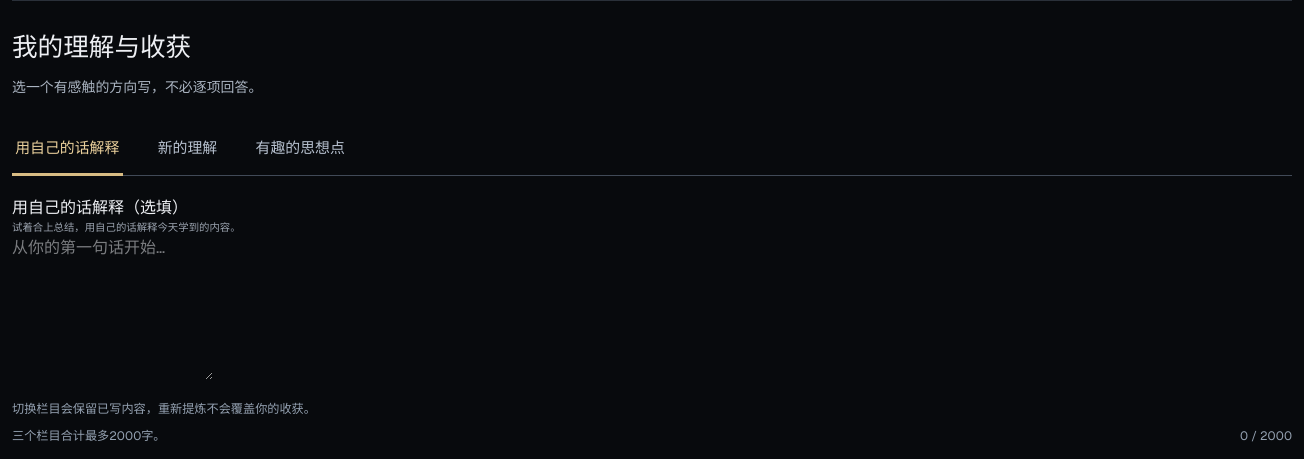
Scenario: preserves independent optional writing when switching tabs
Type "我的解释" into the text box at (112, 308), box [12,236,213,380]
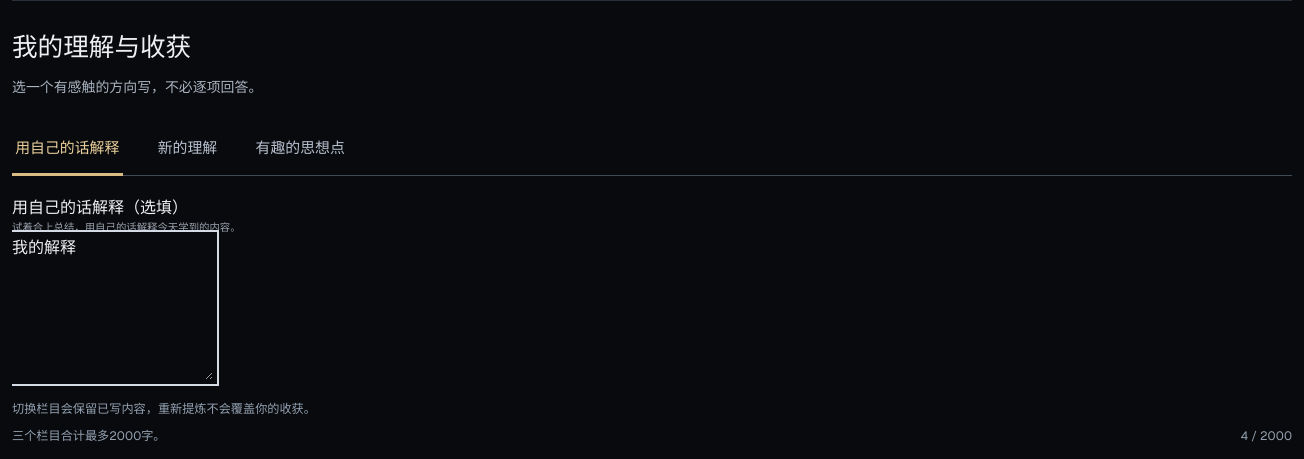
Click the tab "新的理解" at (187, 150), box [154,125,220,175]
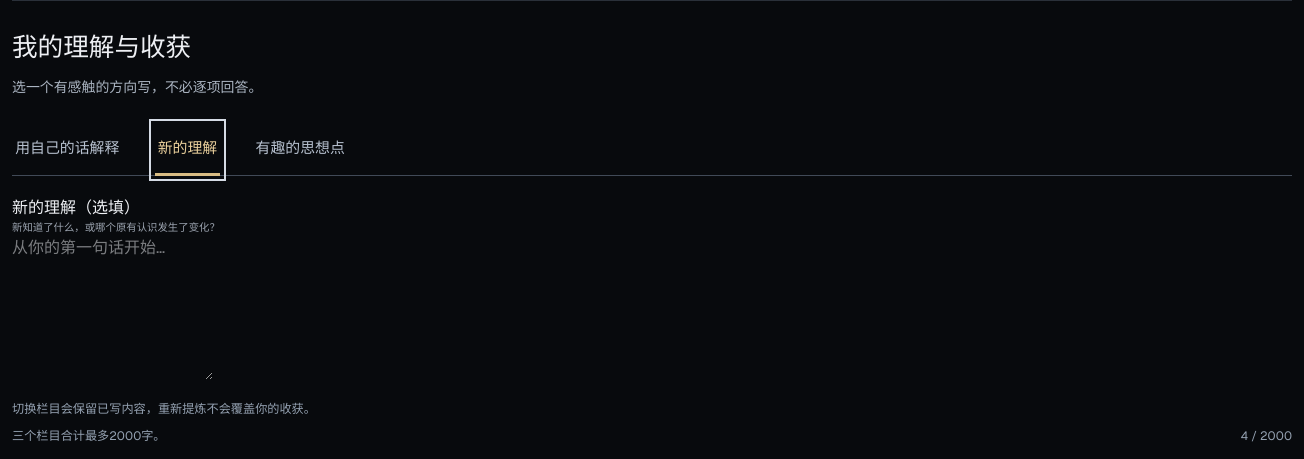
Expected: the text box is empty
Type "新的理解内容" into the text box at (112, 308), box [12,236,213,380]
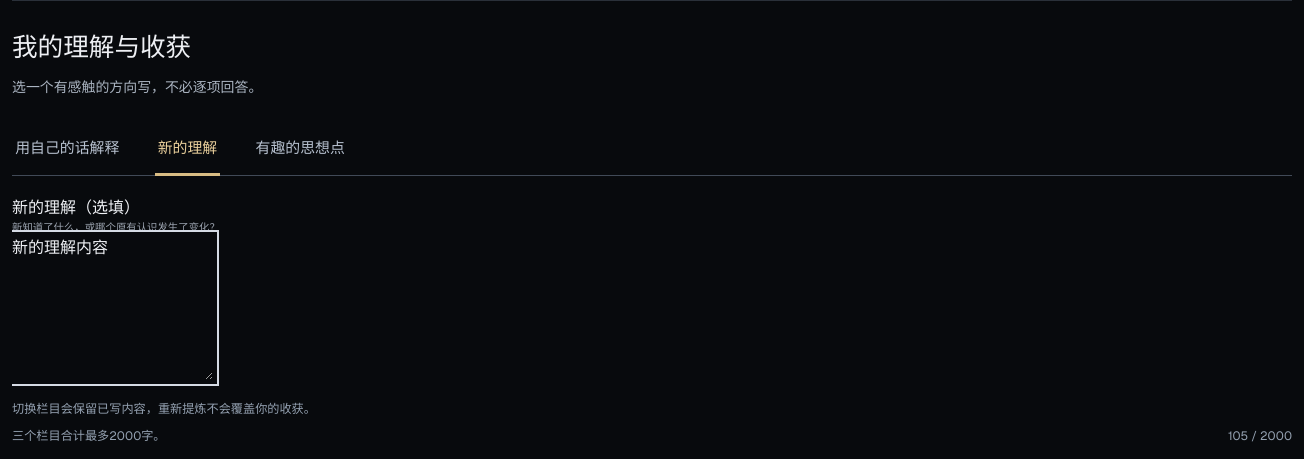
Click the tab "用自己的话解释" at (67, 150), box [12,125,122,175]
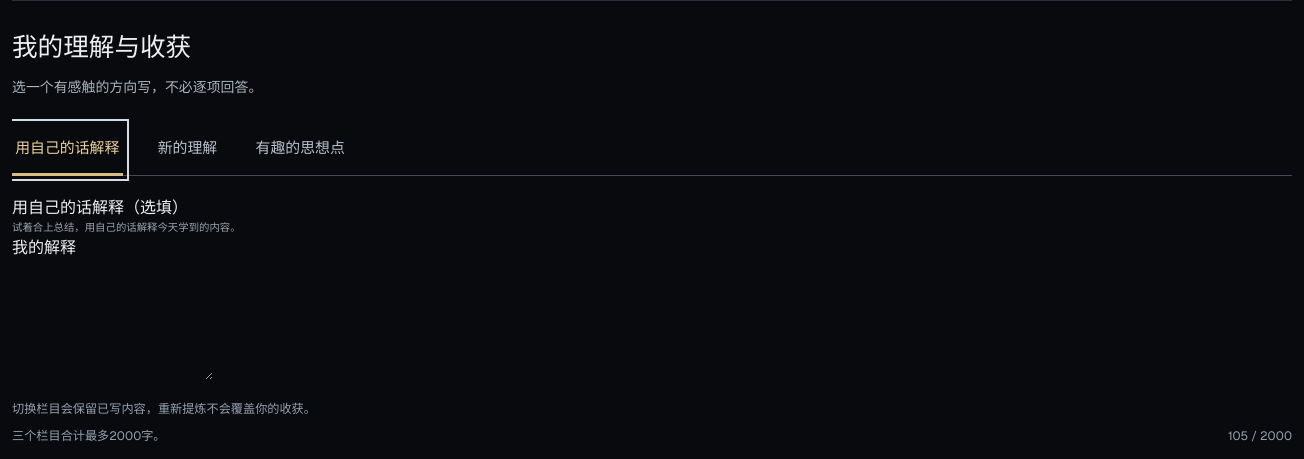
Expected: the text box holds "我的解释", [12,236,213,380]
